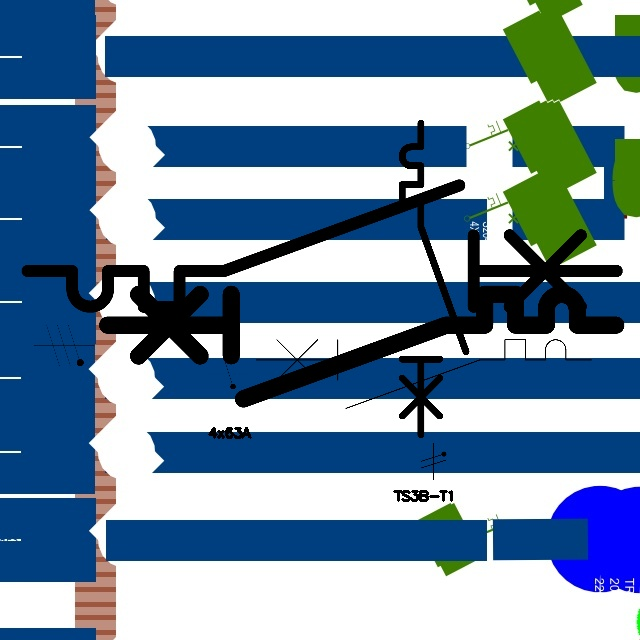interruptor_termomagnetico: (12, 170, 631, 322), (94, 281, 629, 412), (247, 331, 599, 417), (394, 115, 474, 443)
